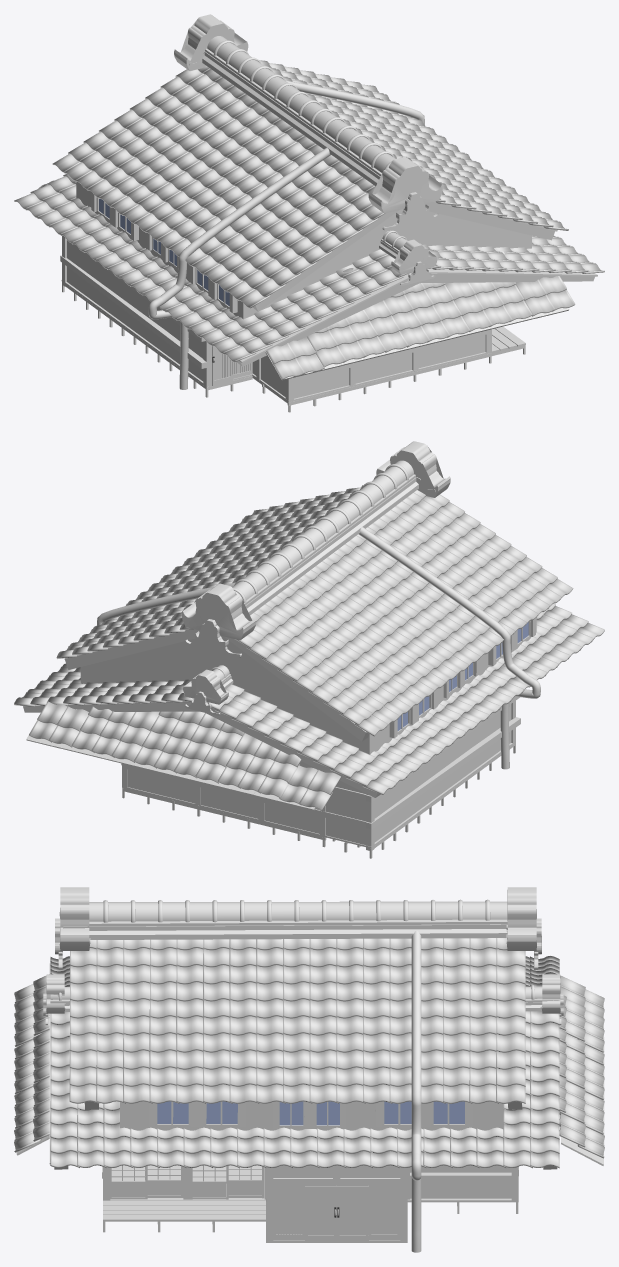
File: tatemono.fbx
3 renders of one model, top to bottom at view 1: azimuth 30°, elevation 25°; view 2: azimuth 150°, elevation 25°; view 3: azimuth 270°, elevation 25°, orthographic. The views are drawn at different scales.
Parts seen in each view (by area): view 1: 平面.003, 平面.001, 平面.002, 立方体.051, 平面.007, 立方体.023, 平面.004, 円柱.002, 立方体.022, 立方体.155, ベジエカーブ.001, 平面.008 (+26 smaller); view 2: 平面.003, 平面.001, 平面.002, 立方体.070, 立方体.021, 立方体.023, 平面.007, 平面.011, 円柱.002, 平面.014, 立方体.155, 平面.013 (+21 smaller); view 3: 平面.002, 平面.007, 立方体.155, 円柱.002, 立方体.050, ベジエカーブ, Cube, 立方体.031, 立方体.078, 立方体.156, 立方体.058, 立方体.059 (+38 smaller).
Part boxes in pixels (x1=…): 平面.003: x1=52, y1=66, x2=385, y2=308; 平面.001: x1=14, y1=174, x2=411, y2=362; 平面.002: x1=259, y1=60, x2=568, y2=230; 立方体.051: x1=243, y1=209, x2=531, y2=319; 平面.007: x1=423, y1=235, x2=604, y2=273; 立方体.023: x1=67, y1=240, x2=203, y2=381; 平面.004: x1=384, y1=283, x2=470, y2=347; 円柱.002: x1=207, y1=36, x2=395, y2=172; 立方体.022: x1=294, y1=335, x2=485, y2=398; 立方体.155: x1=202, y1=48, x2=381, y2=186; ベジエカーブ.001: x1=148, y1=147, x2=330, y2=389; 平面.008: x1=445, y1=282, x2=532, y2=331; 平面.003: x1=235, y1=490, x2=573, y2=736; 平面.001: x1=208, y1=603, x2=604, y2=794; 平面.002: x1=56, y1=485, x2=363, y2=659; 立方体.070: x1=83, y1=636, x2=367, y2=753; 立方体.021: x1=127, y1=769, x2=365, y2=844; 立方体.023: x1=374, y1=704, x2=511, y2=842; 平面.007: x1=14, y1=663, x2=193, y2=706; 平面.011: x1=134, y1=680, x2=223, y2=778; 円柱.002: x1=232, y1=460, x2=413, y2=600; 平面.014: x1=217, y1=733, x2=301, y2=797; 立方体.155: x1=244, y1=474, x2=418, y2=615; 平面.013: x1=71, y1=706, x2=159, y2=762; 平面.002: x1=69, y1=938, x2=525, y2=1103; 平面.007: x1=50, y1=1011, x2=559, y2=1168; 立方体.155: x1=63, y1=919, x2=507, y2=939; 円柱.002: x1=89, y1=901, x2=507, y2=921; 立方体.050: x1=120, y1=1101, x2=503, y2=1130; ベジエカーブ: x1=411, y1=930, x2=421, y2=1252; Cube: x1=110, y1=1165, x2=518, y2=1202; 立方体.031: x1=410, y1=1165, x2=511, y2=1198; 立方体.078: x1=507, y1=887, x2=536, y2=950; 立方体.156: x1=59, y1=887, x2=89, y2=950; 立方体.058: x1=305, y1=1185, x2=336, y2=1241; 立方体.059: x1=337, y1=1185, x2=368, y2=1241.
Size of the model in its own units: 7361 by 4245 by 8420.
